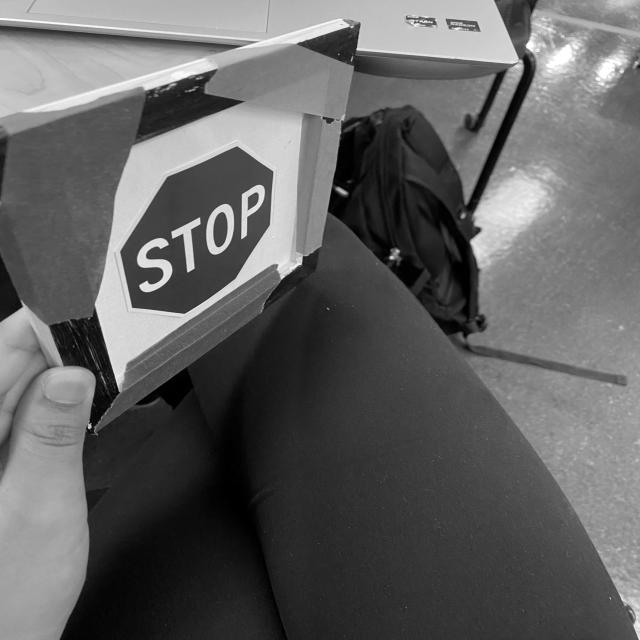stop: (119, 142, 282, 317)
